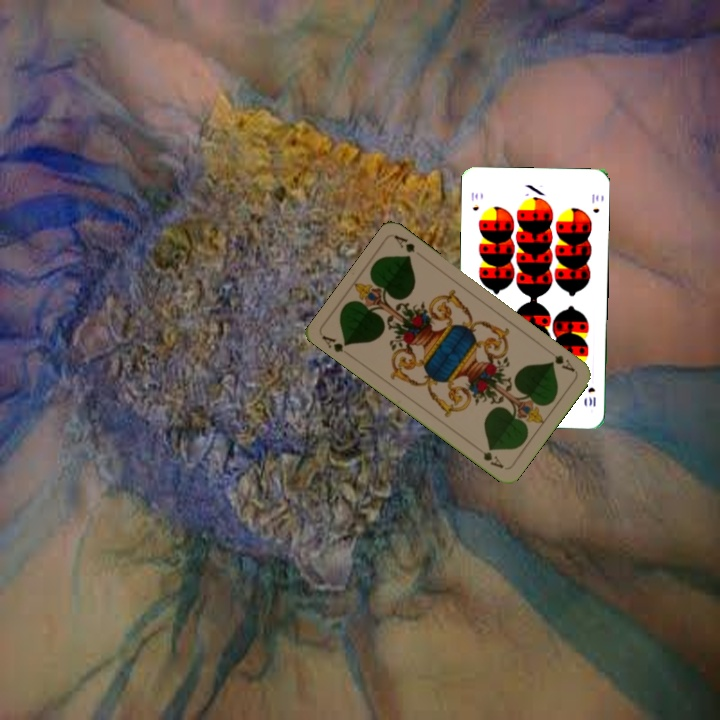GA: (543, 345, 578, 375), (318, 332, 351, 355)
S10: (584, 383, 598, 409), (467, 188, 481, 213)
